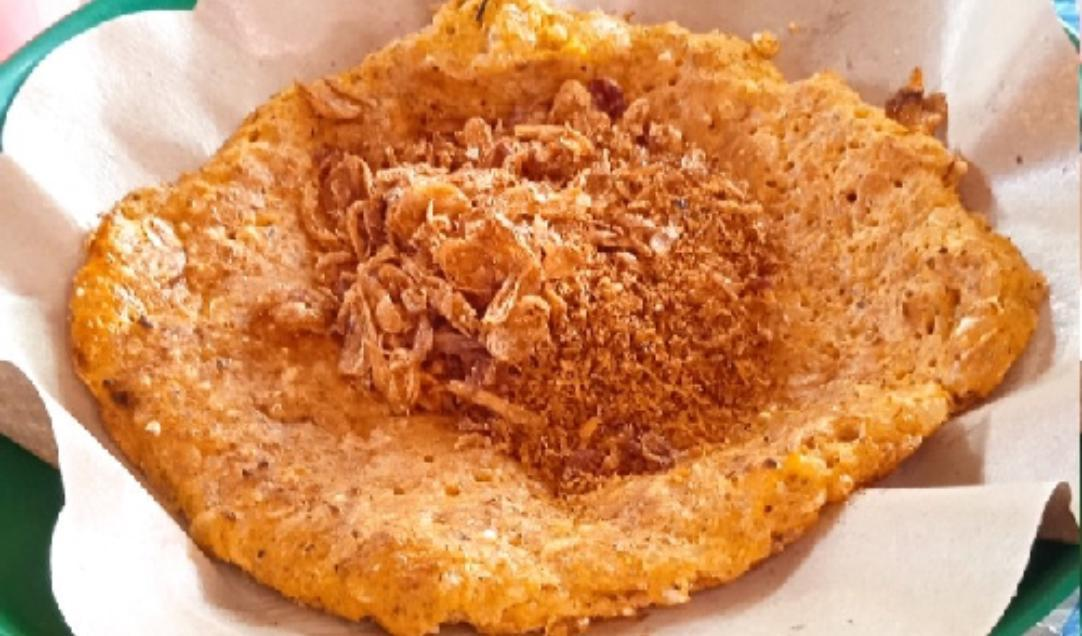kerak_telor: (67, 7, 1048, 627)
